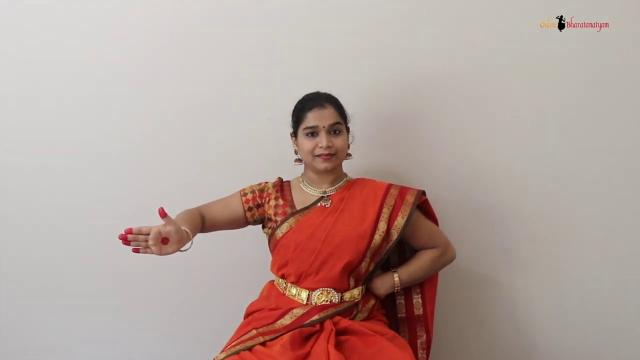ardhachandra: (106, 185, 200, 281)
